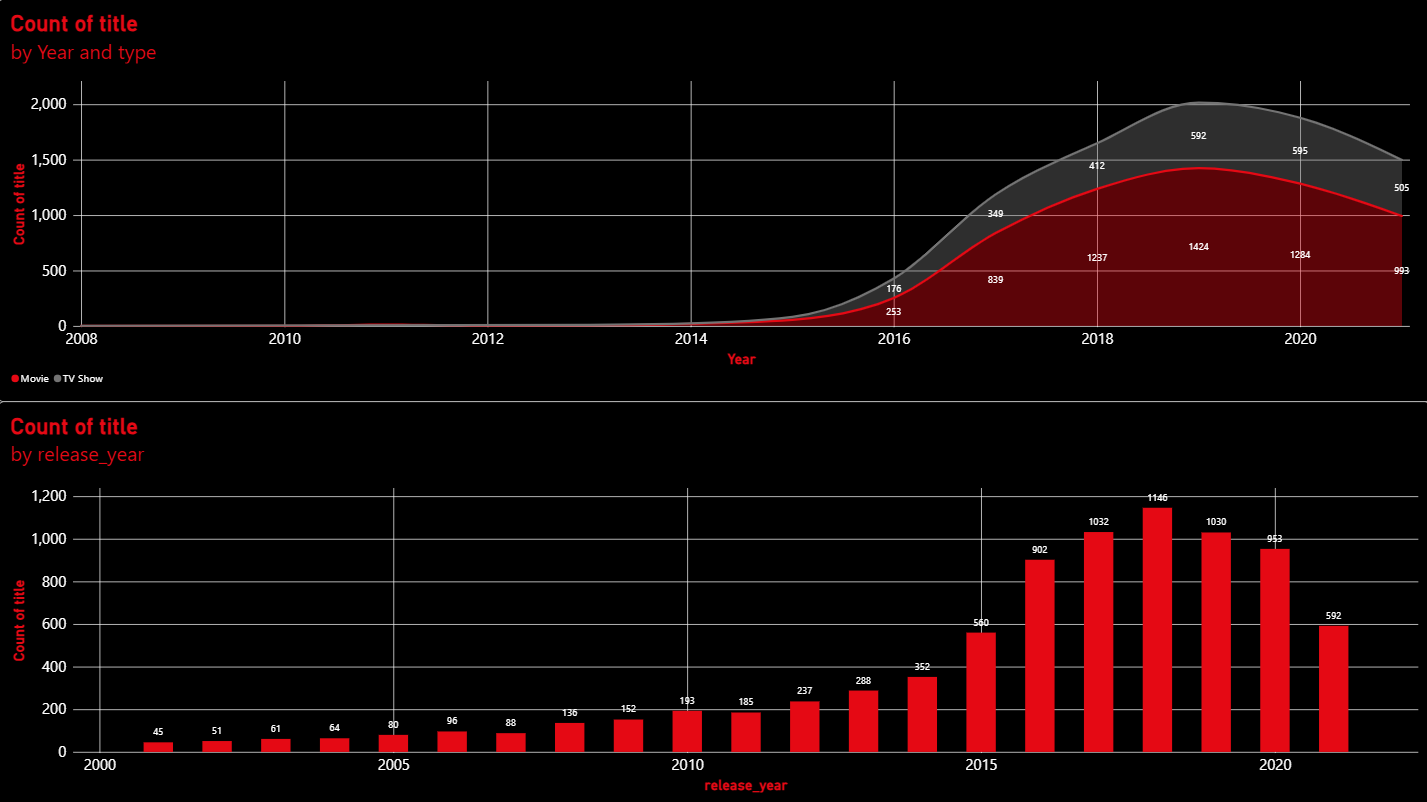

This screenshot's page, from the dashboard's own definition file:
{"tool":"powerbi","page":{"name":"Trends over Time","canvas":[1920,1080],"ordinal":2},"visuals":[{"type":"stackedAreaChart","fields":{"Category":["netflix_titles.data_added_clean.Variation.Date Hierarchy.Year"],"Series":["netflix_titles.type"],"Y":["Count(netflix_titles.title)"]},"box":[0,0,1920.4,540],"z":0},{"type":"clusteredColumnChart","fields":{"Category":["netflix_titles.release_year"],"Y":["Count(netflix_titles.title)"]},"box":[0,539.3,1920.4,541.3],"z":1000}]}

Visuals, with their boxes in screenshot pixels (x1, y1, x2, y2), scaled from the page's 1920x1080 canvas onto the 1427x802 screenshot:
stackedAreaChart - netflix_titles.data_added_clean.Variation.Date Hierarchy.Year x netflix_titles.type: bbox=(0, 0, 1426, 401)
clusteredColumnChart - netflix_titles.release_year x Count(netflix_titles.title): bbox=(0, 400, 1426, 801)
